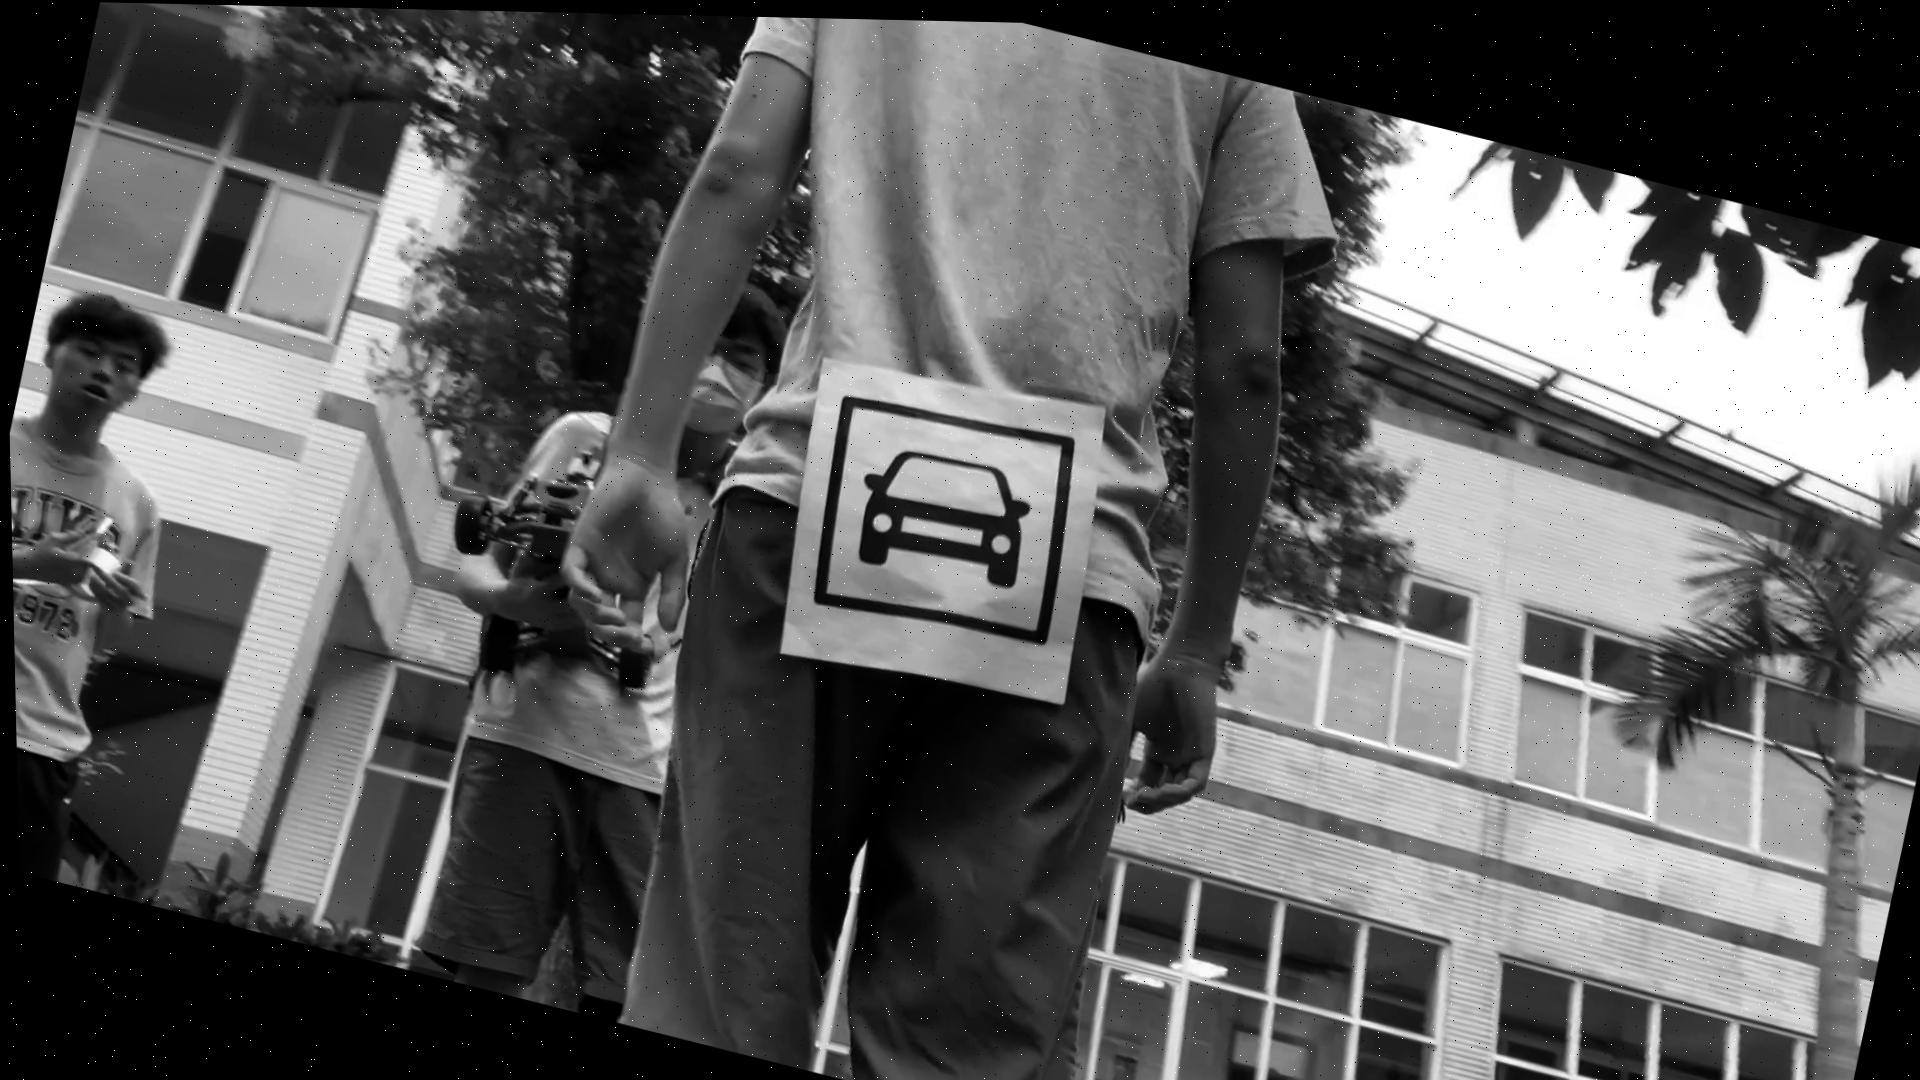car_img: (791, 373, 1093, 658)
